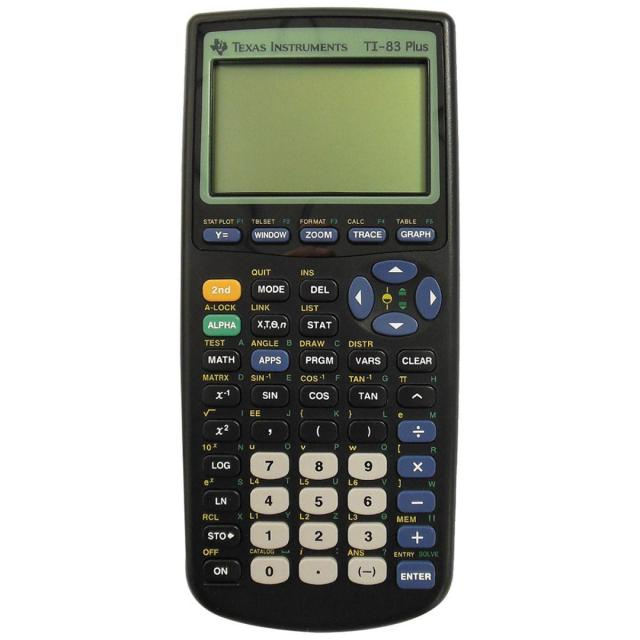Calculator: (119, 0, 500, 640)
